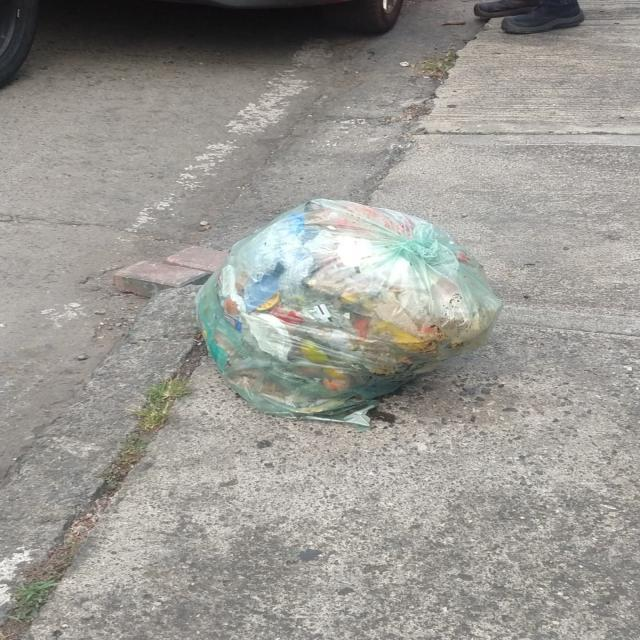Garbage_Bag: (183, 188, 504, 428)
